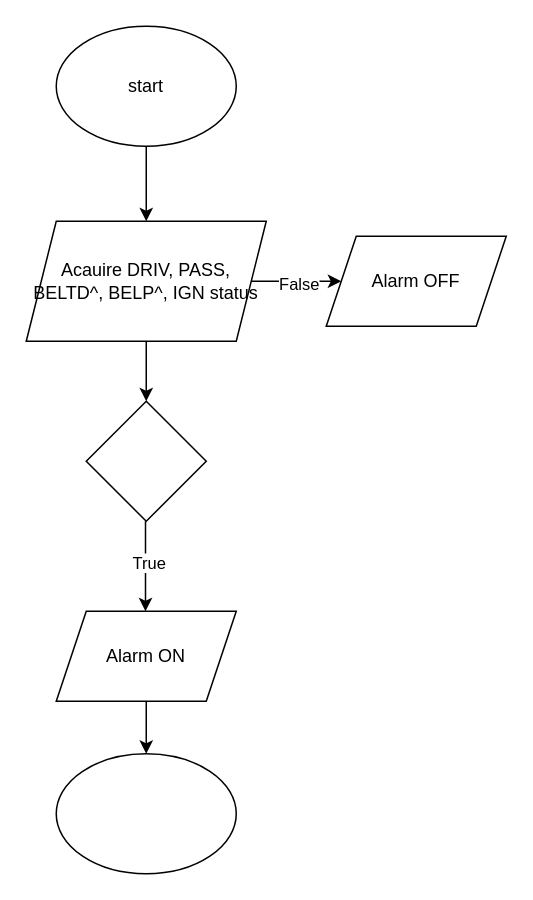
Image size: 533x900. Some labels were removed from this diagram. The shapes that lost their labels are listed below. From the top down, each one's centre as x and y in pixels, then its label:
pixel 145 460: all pseudocode
pixel 145 813: End
